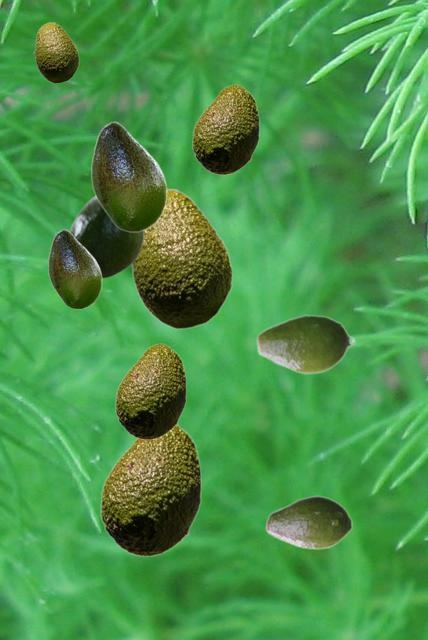avocado: (130, 188, 232, 328), (100, 424, 200, 556), (91, 121, 166, 231), (115, 343, 185, 439), (255, 313, 355, 374), (69, 196, 143, 278), (192, 84, 258, 174), (265, 495, 352, 549), (48, 229, 101, 308), (33, 22, 78, 82)
